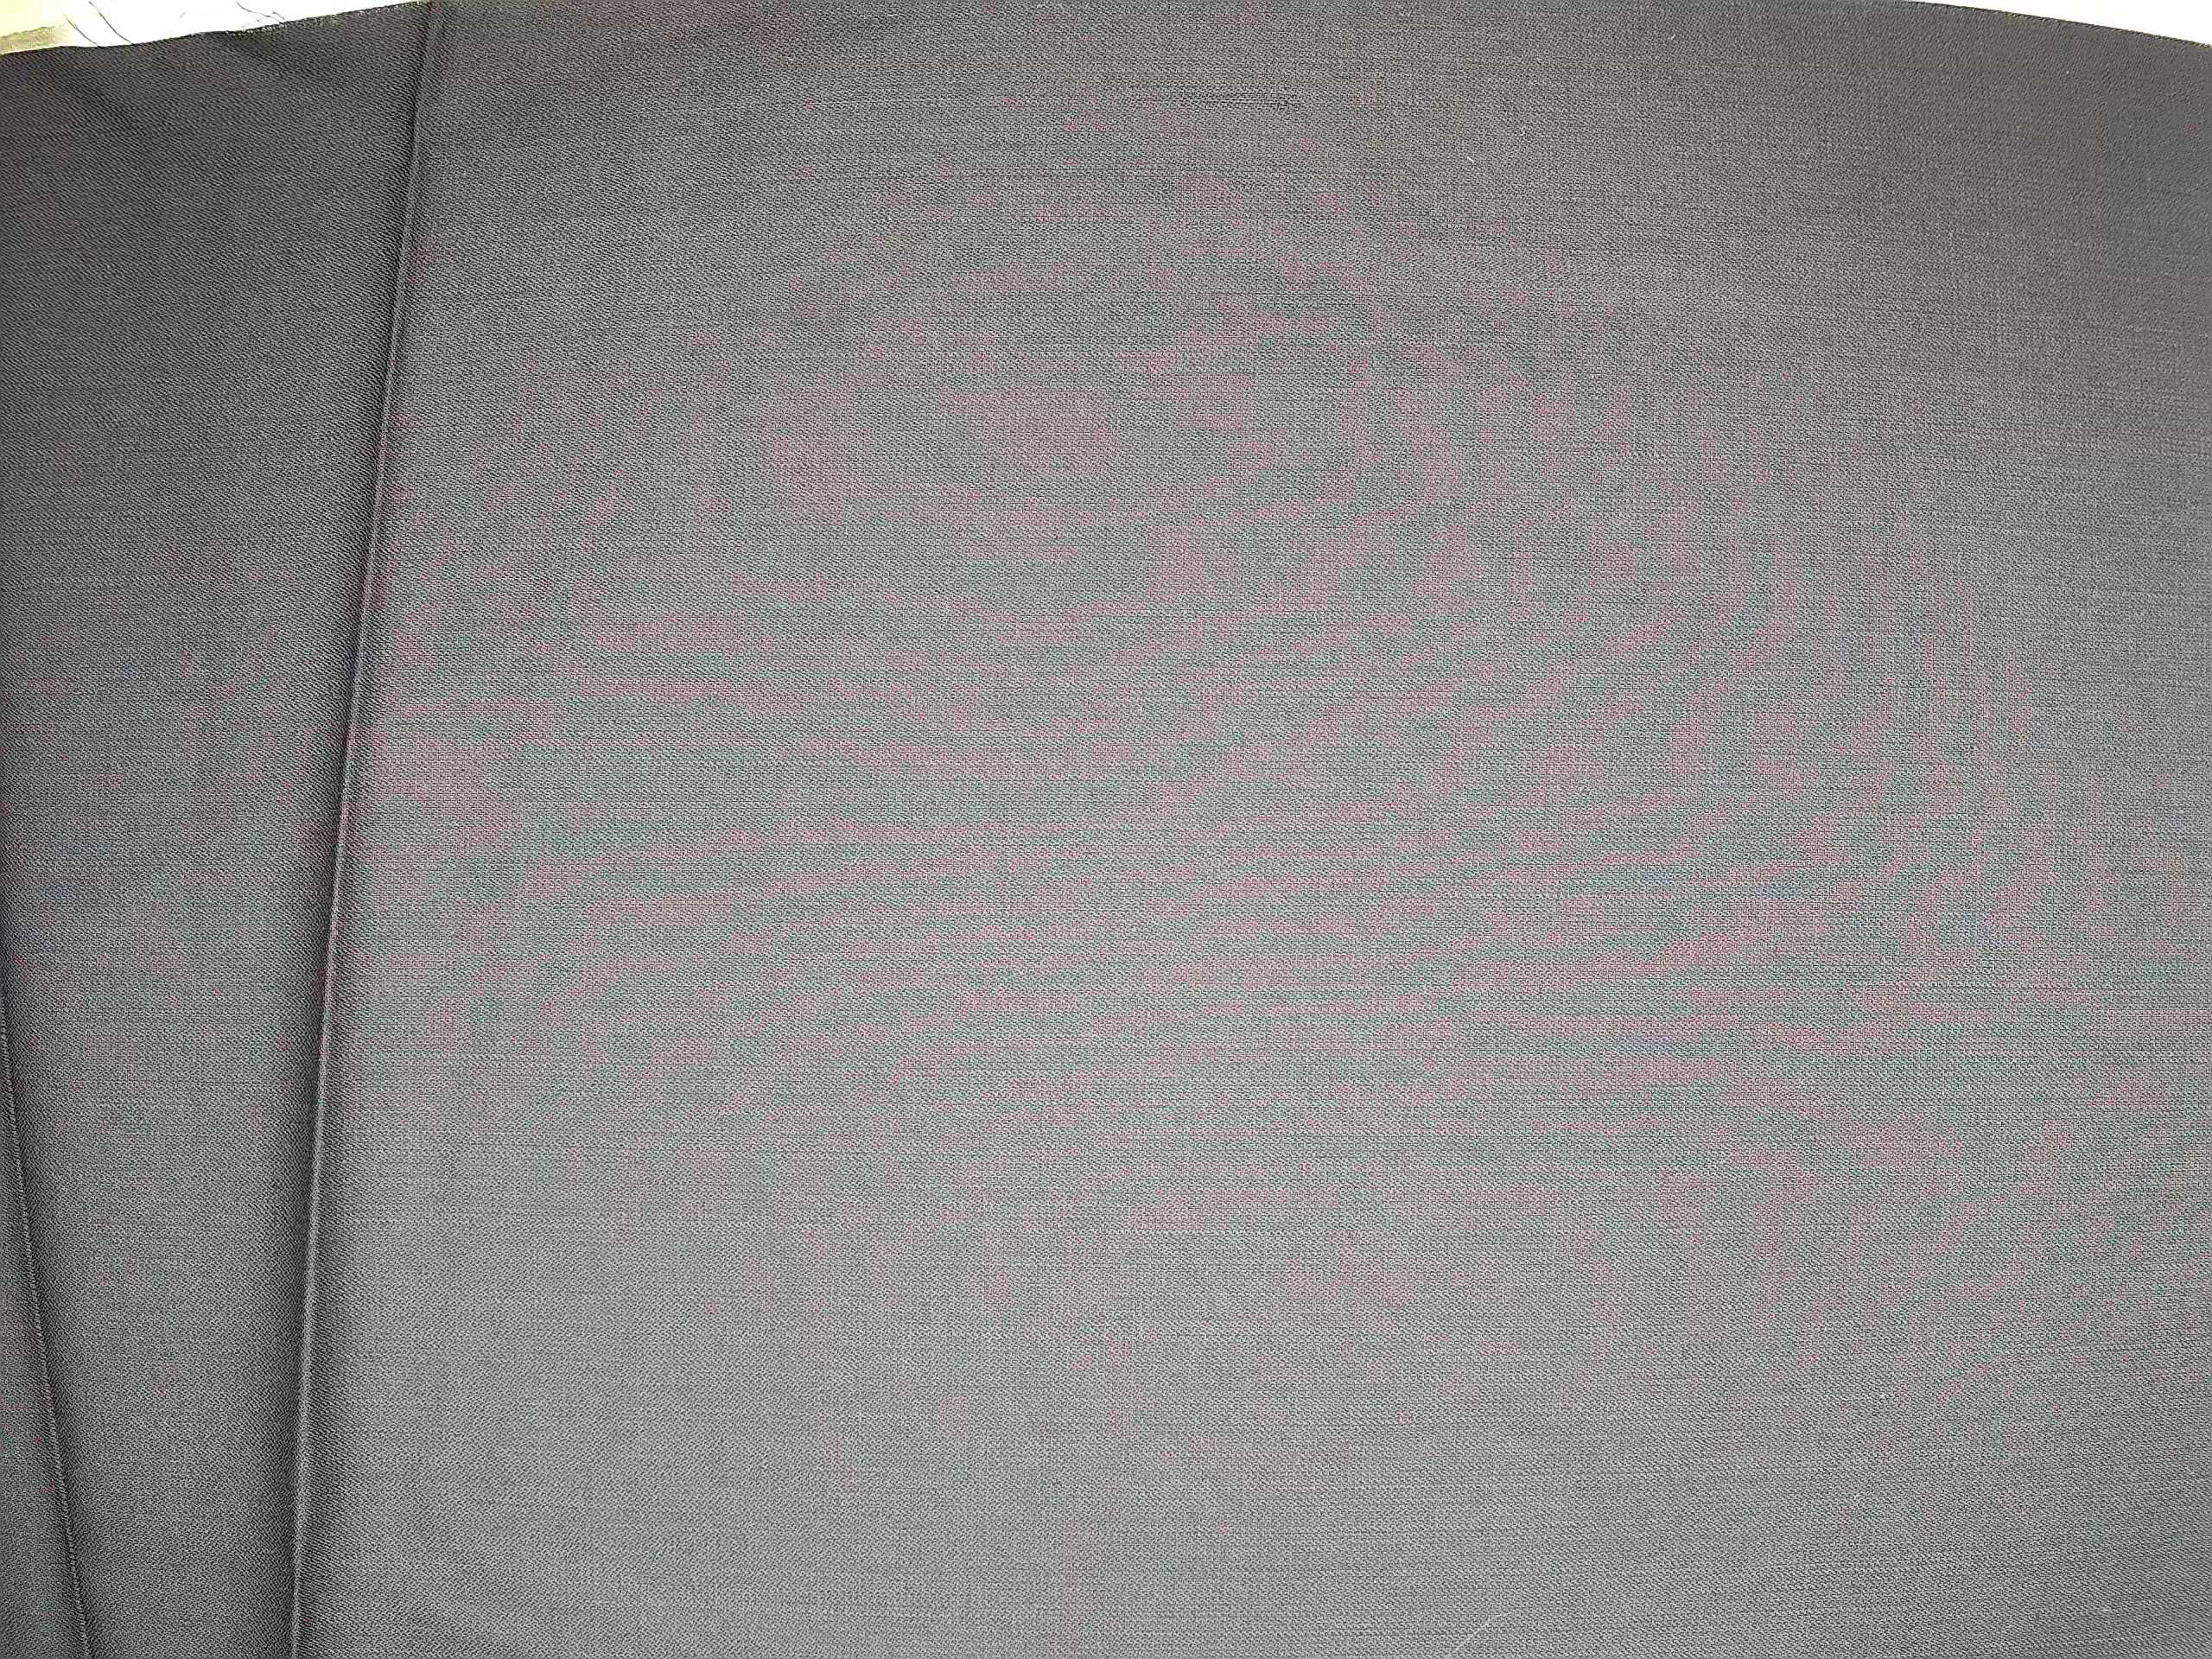thin-spinning: (1143, 64, 1364, 139)
